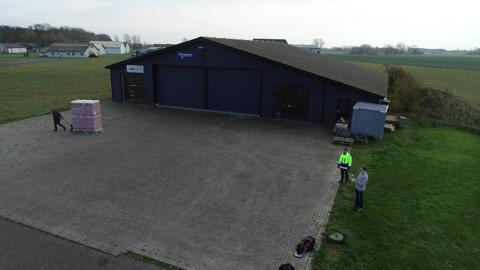RockwoolPallet: (69, 99, 105, 134)
